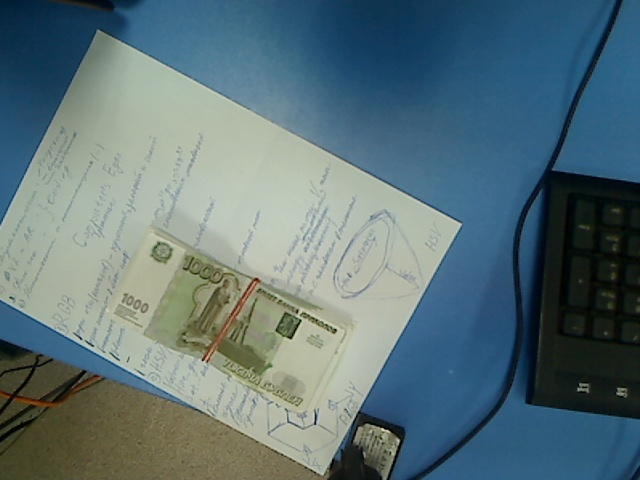banknotes: (106, 225, 357, 418)
